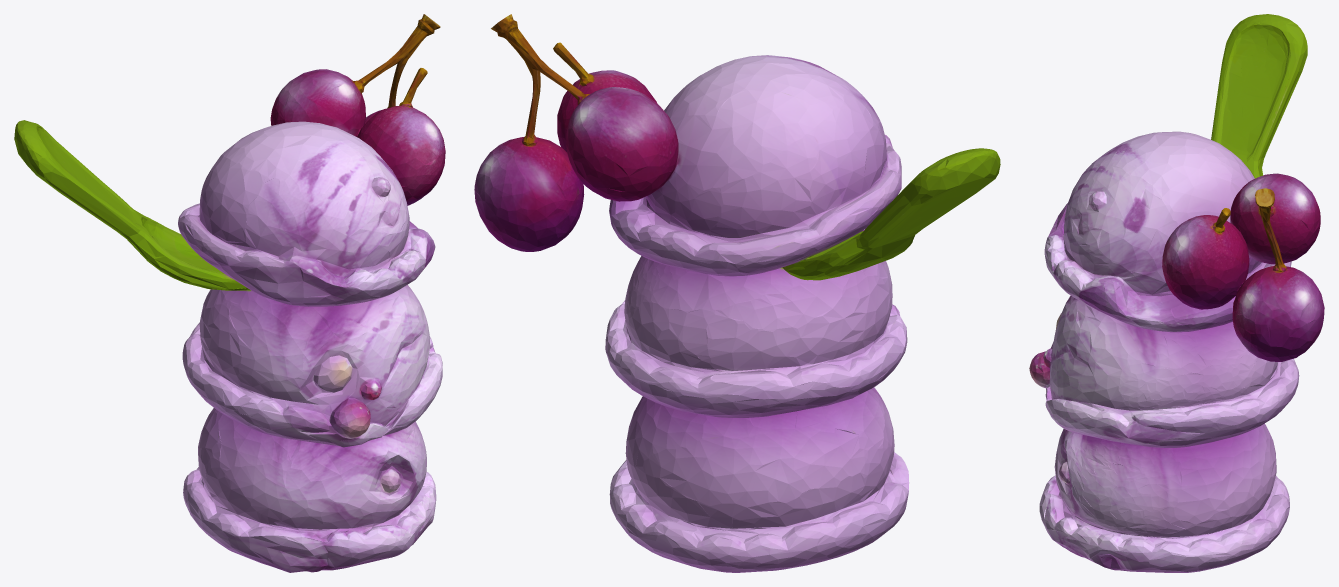
File: Web_IceCream_Grape.obj
3 renders of one model, left to right at view 1: azimuth 30°, elevation 25°; view 2: azimuth 150°, elevation 25°; view 3: azimuth 270°, elevation 25°, orthographic. The views are drawn at different scales.
Parts seen in each view (by area): view 1: Web_IceCream_Grape; view 2: Web_IceCream_Grape; view 3: Web_IceCream_Grape.
Part boxes in pixels (x1,y1,x2,y2): Web_IceCream_Grape: [14, 14, 445, 572]; Web_IceCream_Grape: [474, 14, 1000, 572]; Web_IceCream_Grape: [1029, 14, 1324, 572].
Size of the model in its own units: 0.9304 by 0.9178 by 0.5759.
1 material, 1 textured.
